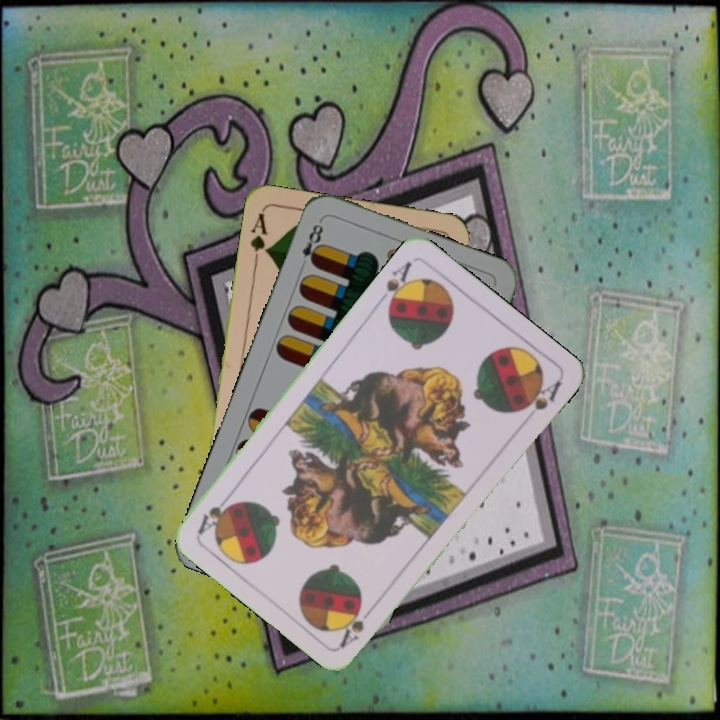E8: (298, 216, 326, 269)
GA: (246, 208, 272, 268)
SA: (373, 257, 418, 313), (336, 600, 379, 650)
